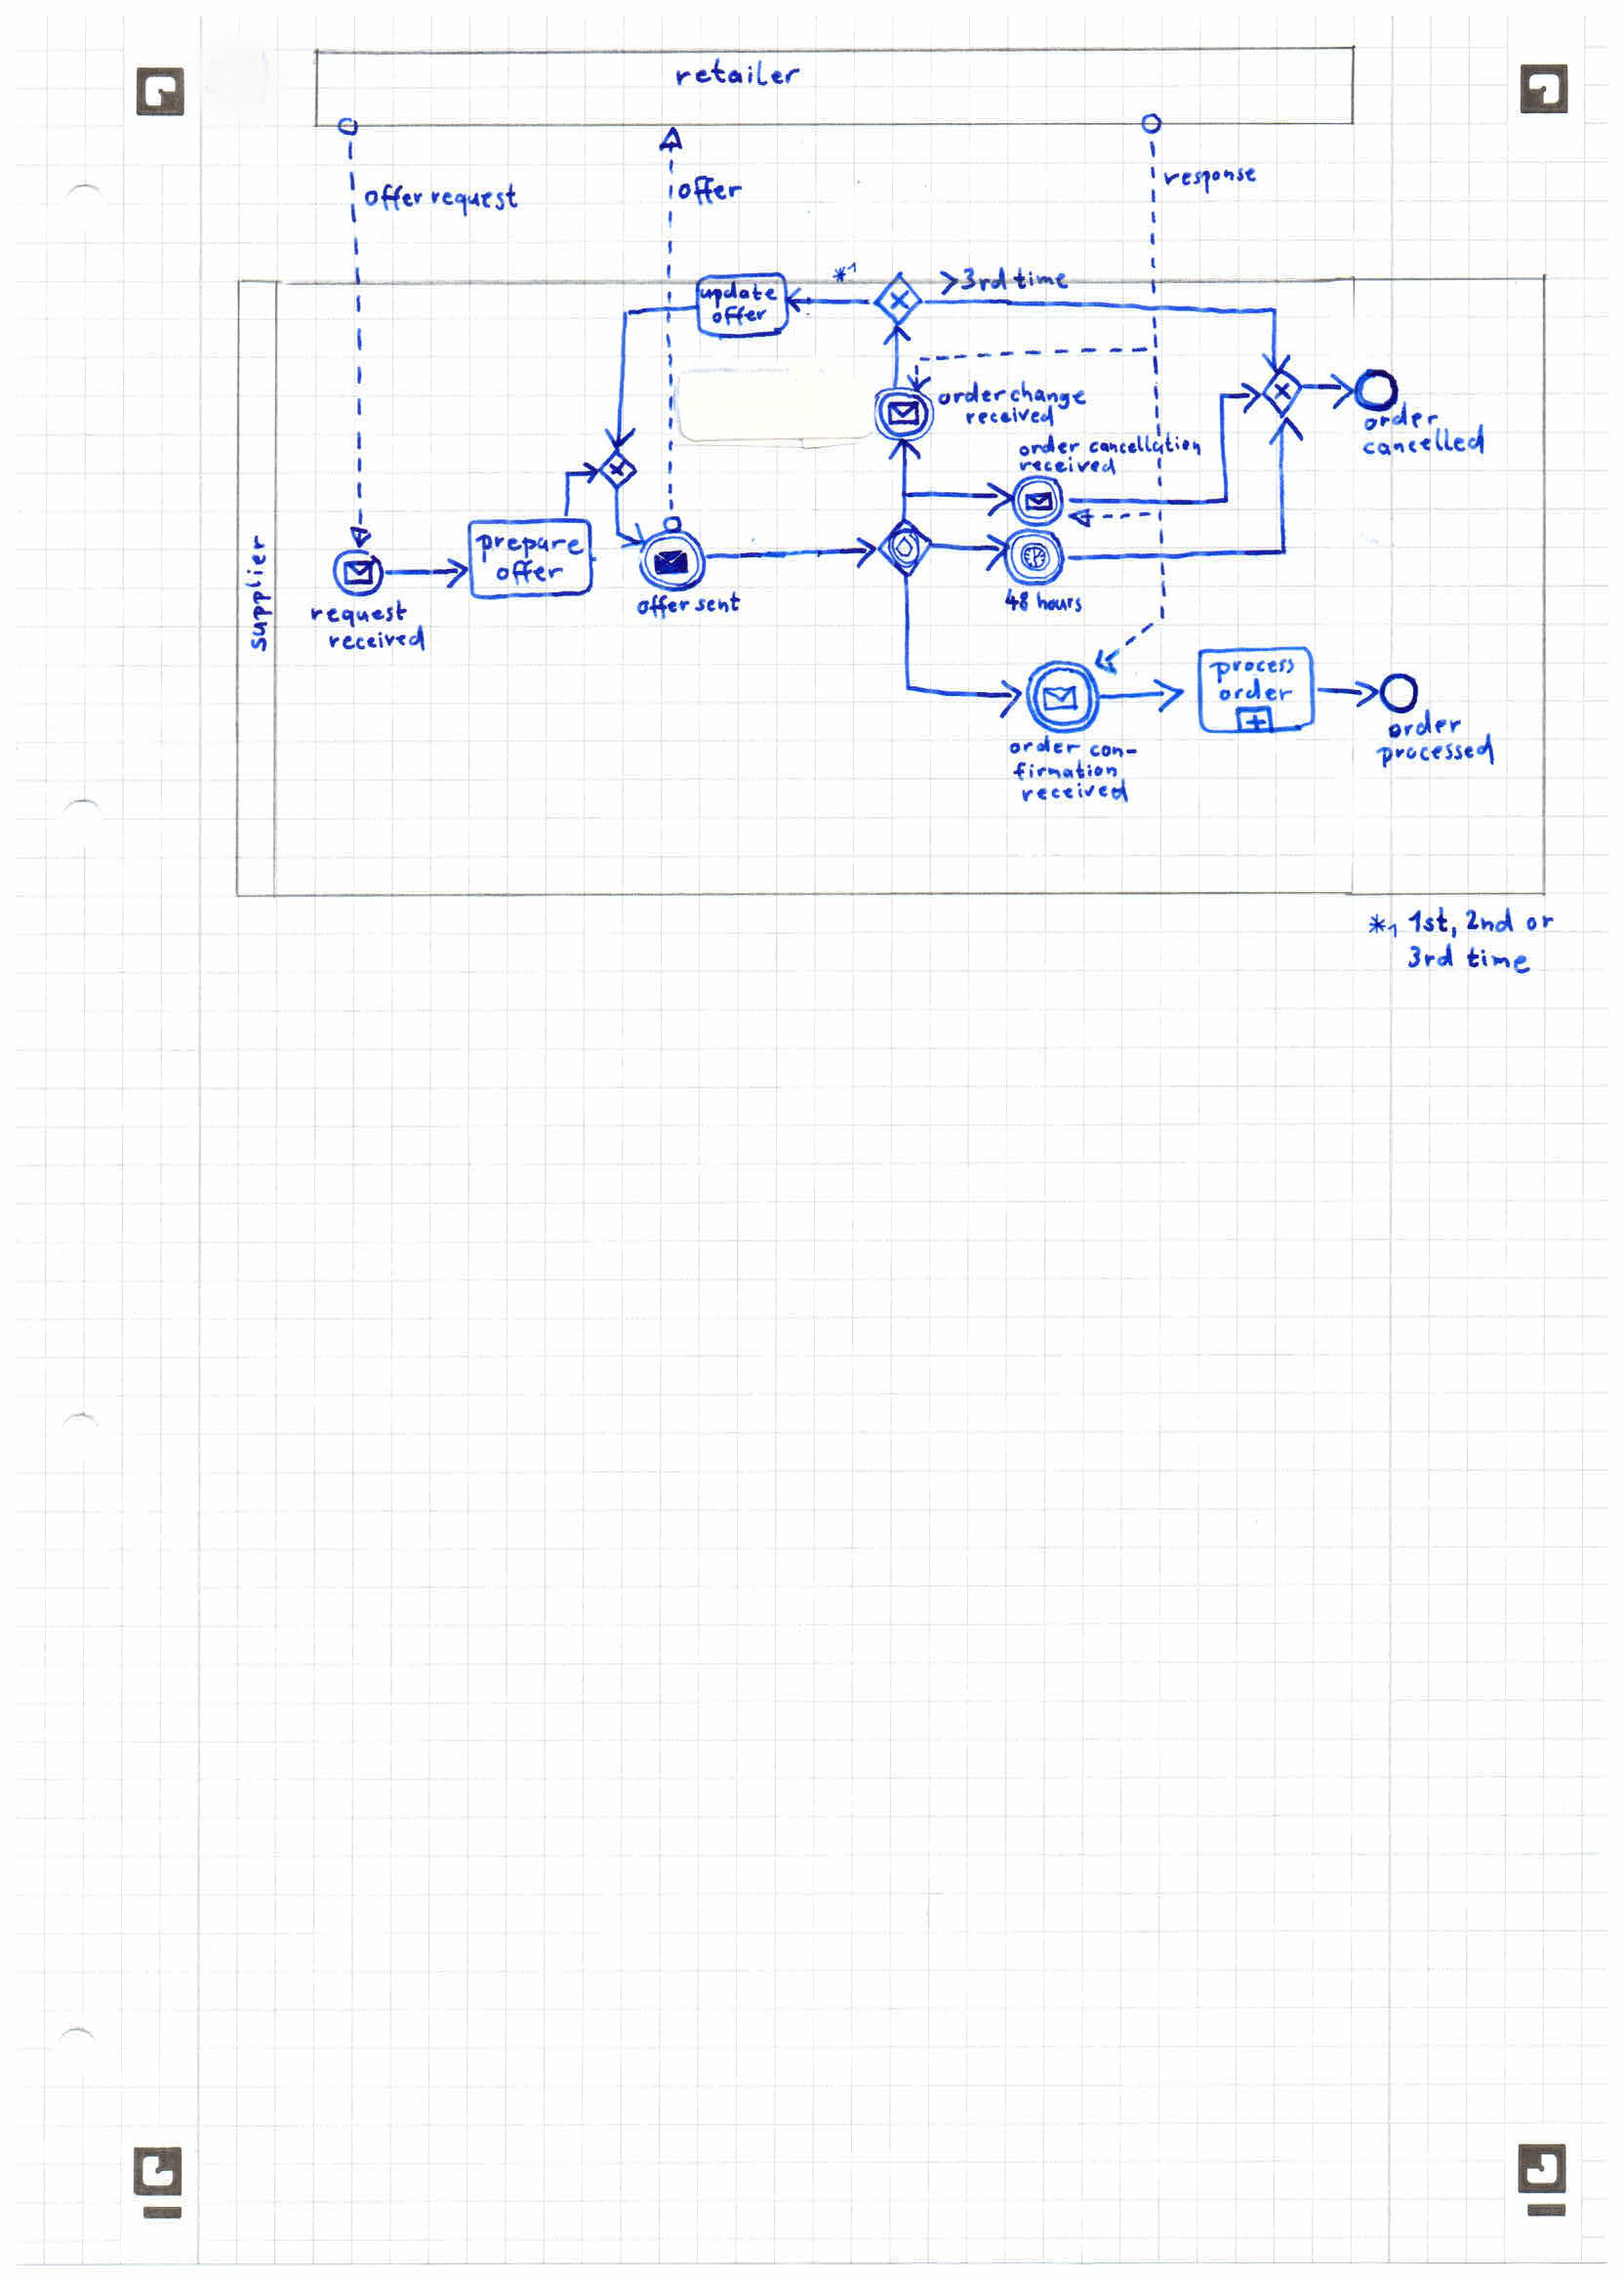1st,: (1397, 905, 1454, 939)
2nd: (1461, 907, 1515, 937)
3rd: (1401, 942, 1455, 972)
48: (1000, 589, 1030, 615)
>3rd: (937, 264, 1011, 297)
cancellation: (1083, 427, 1211, 464)
cancelled: (1362, 424, 1490, 457)
change: (1011, 382, 1093, 410)
con-: (1079, 737, 1142, 767)
firmation: (1011, 761, 1121, 782)
hours: (1023, 592, 1097, 617)
offer: (677, 174, 747, 209), (692, 302, 784, 327), (360, 183, 427, 214), (490, 559, 568, 585), (634, 591, 694, 621)
or: (1515, 907, 1559, 935)
order: (1004, 733, 1084, 765), (1362, 401, 1439, 432), (939, 378, 1007, 411), (1388, 712, 1469, 740), (1018, 432, 1081, 457), (1214, 684, 1292, 703)
prepare: (475, 529, 585, 561)
process: (1209, 652, 1299, 682)
processed: (1376, 731, 1499, 770)
received: (332, 624, 434, 654), (1016, 452, 1125, 478), (963, 403, 1062, 431), (1019, 782, 1128, 803)
request: (431, 179, 517, 216), (306, 603, 404, 629)
response: (1164, 167, 1255, 192)
retailer: (671, 58, 801, 91)
sent: (692, 594, 745, 615)
supplier: (243, 529, 272, 656)
time: (1471, 944, 1526, 976), (1014, 265, 1072, 294)
update: (698, 278, 779, 308)
